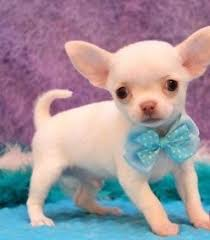chihuahua: (19, 26, 210, 236)
